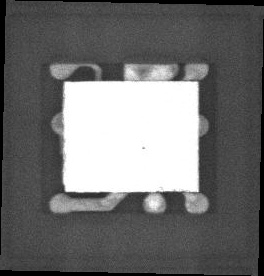DIE_INK: (140, 145, 146, 151)
